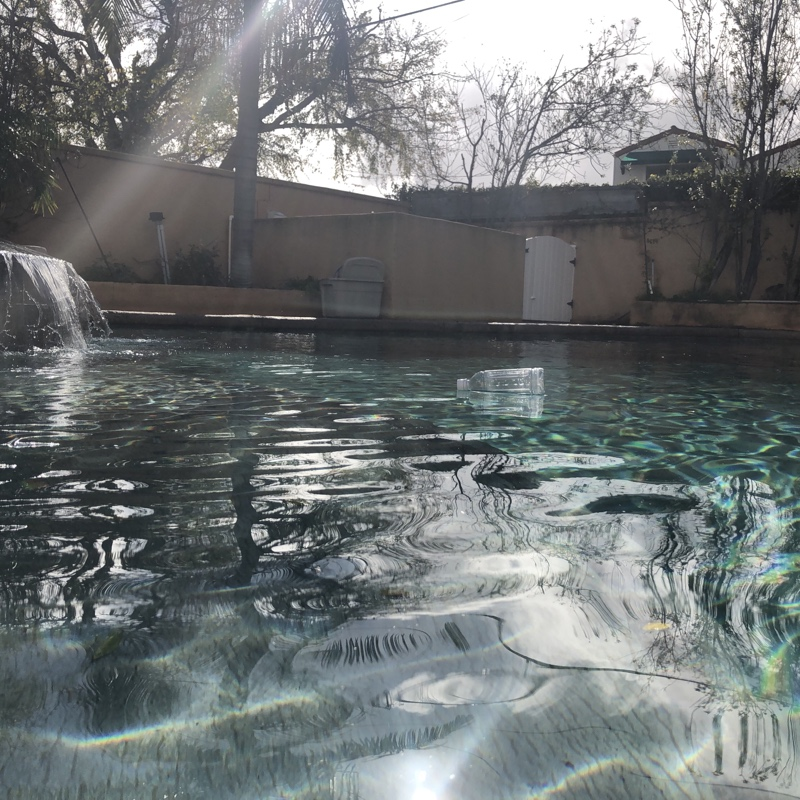Plastic Bottle: (455, 365, 549, 399)
